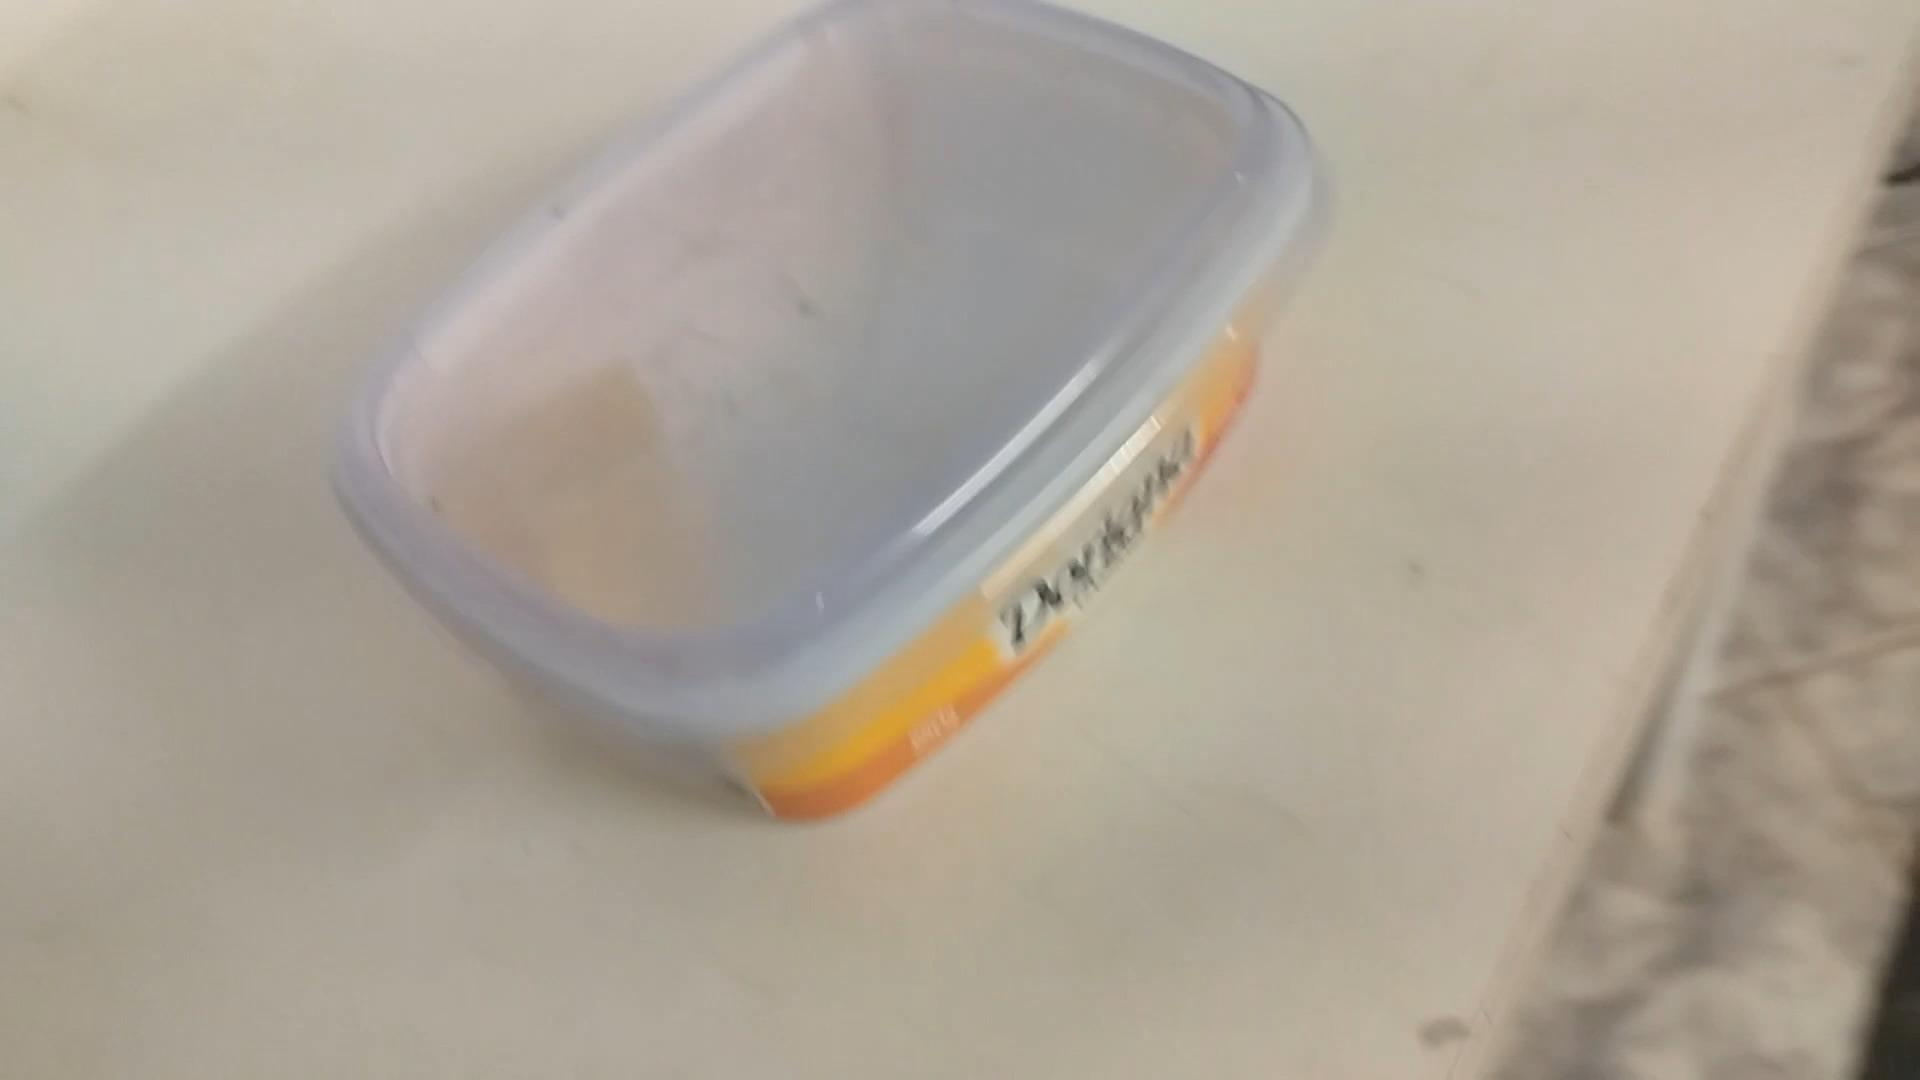butter: (331, 9, 1315, 828)
